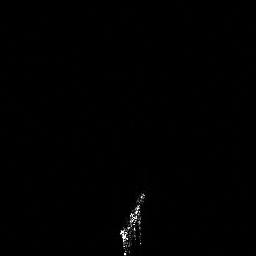ship: (115, 187, 150, 256)
